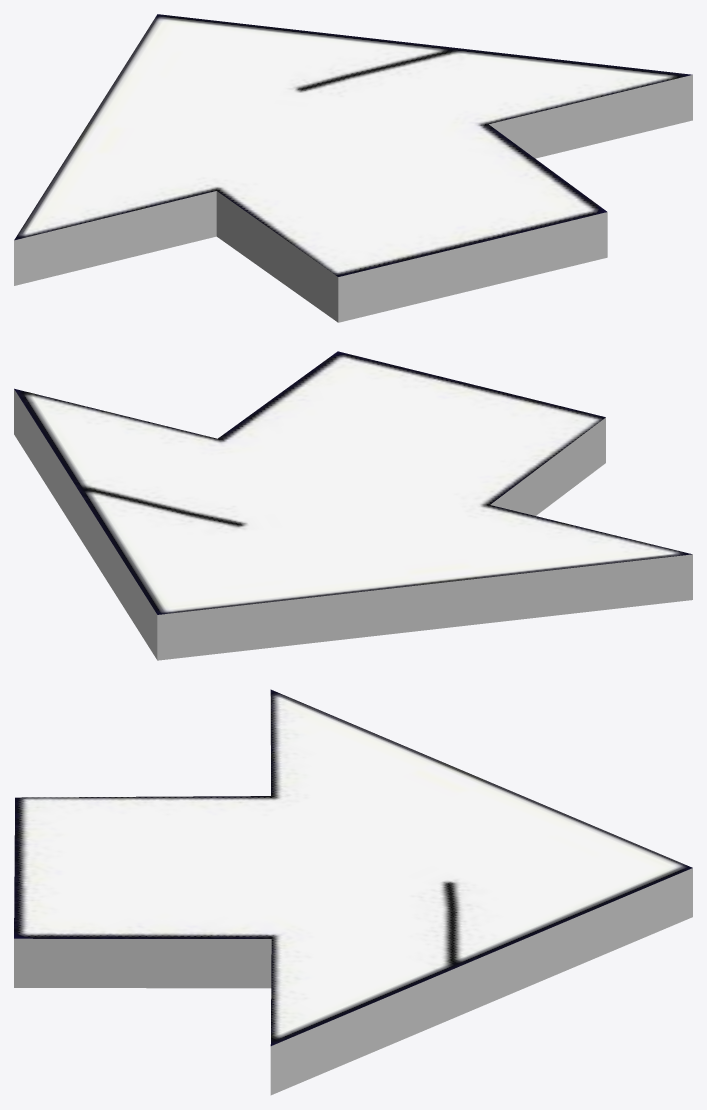
File: akacursor.glb
3 renders of one model, top to bottom at view 1: azimuth 30°, elevation 25°; view 2: azimuth 150°, elevation 25°; view 3: azimuth 270°, elevation 25°, orthographic. The views are drawn at different scales.
Visible parts, largest first — view 1: Plane; view 2: Plane; view 3: Plane.
Part boxes in pixels (x1,y1,x2,y2): Plane: (14,14,692,322); Plane: (14,351,692,660); Plane: (14,689,692,1095).
Bounding box in the file's own units: 5.11 × 0.3286 × 4.11.
2 materials, 1 textured.
